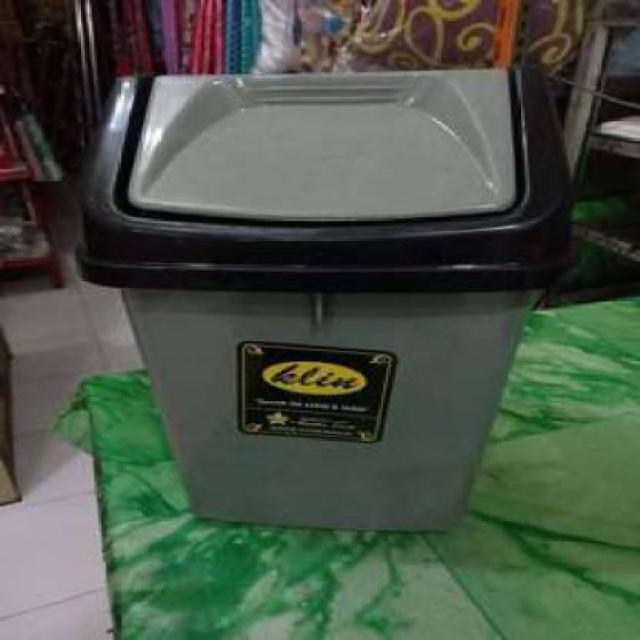garbage container: (64, 66, 583, 555)
